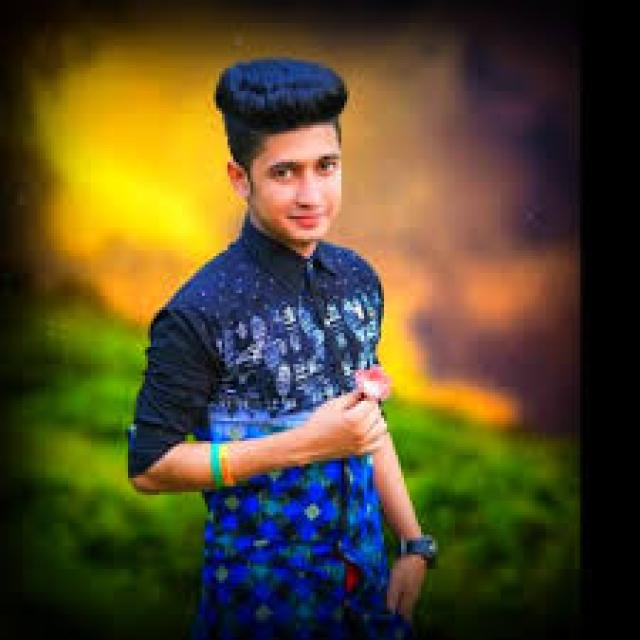Edited images: (108, 34, 458, 640)
